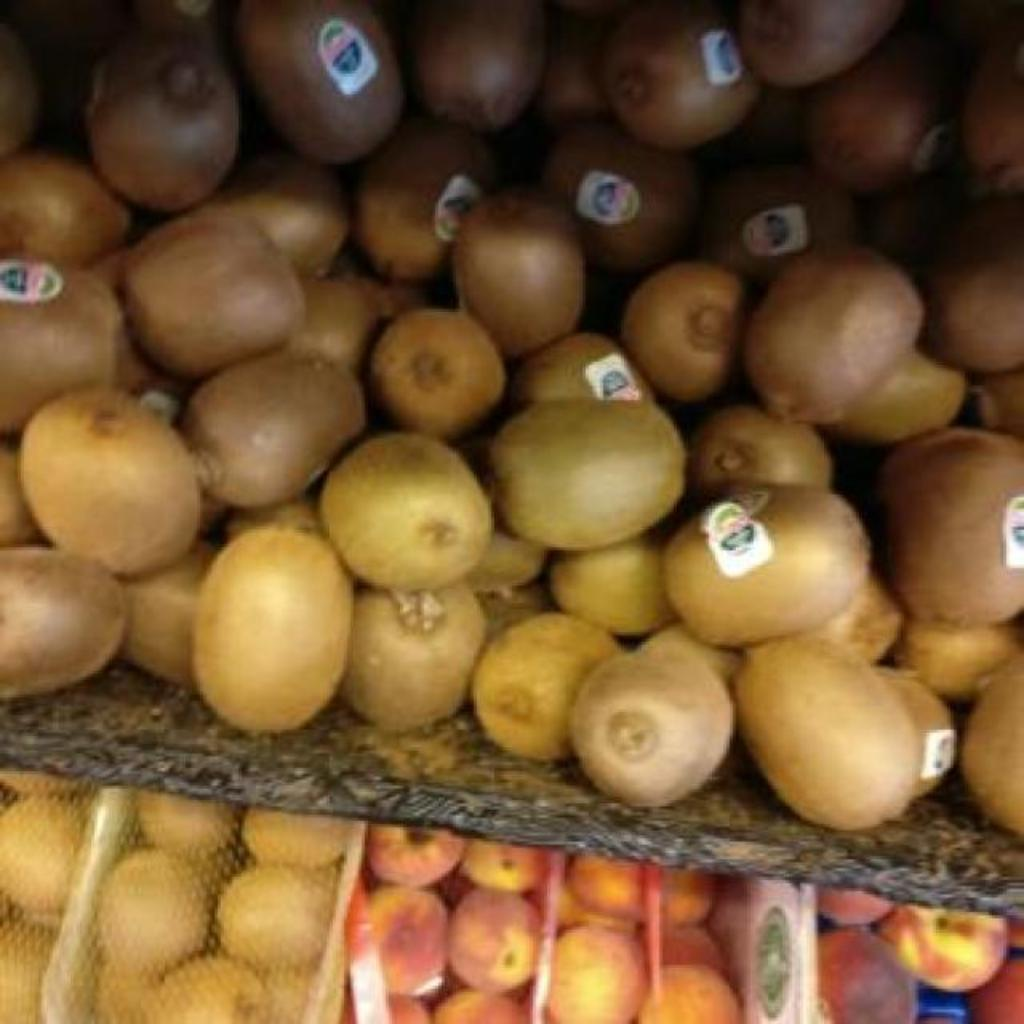kiwi: (736, 636, 922, 829), (192, 526, 352, 733), (22, 392, 198, 575), (666, 488, 868, 646), (744, 246, 924, 423), (124, 208, 306, 377), (880, 428, 1024, 623), (494, 402, 684, 549), (184, 352, 362, 507), (236, 0, 404, 163), (320, 434, 492, 591), (94, 38, 236, 211), (574, 656, 730, 805), (542, 124, 700, 271), (354, 118, 494, 281), (606, 2, 758, 149), (452, 190, 584, 357), (472, 612, 618, 759), (342, 582, 486, 731), (808, 36, 942, 193), (0, 259, 122, 431), (192, 154, 350, 278), (0, 548, 126, 699), (702, 166, 856, 279), (410, 0, 542, 131), (928, 196, 1024, 373), (622, 262, 744, 401), (372, 312, 502, 437), (0, 158, 128, 265), (832, 352, 966, 445), (550, 536, 674, 635), (692, 408, 832, 493), (124, 552, 209, 685), (968, 654, 1024, 835), (962, 30, 1024, 191), (879, 666, 954, 795), (516, 334, 652, 403), (900, 620, 1018, 699), (286, 282, 378, 371)
